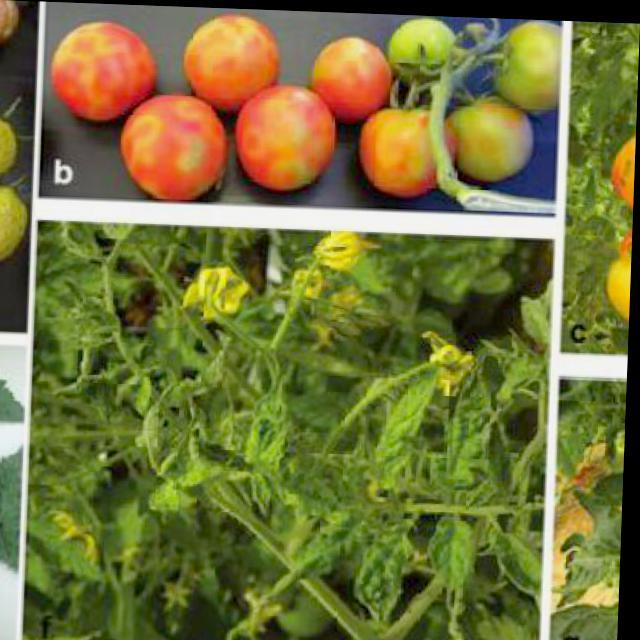Tomato yellow virus leaf: (380, 372, 437, 488), (354, 525, 420, 625), (448, 368, 494, 494), (493, 512, 546, 590), (432, 506, 480, 592)
